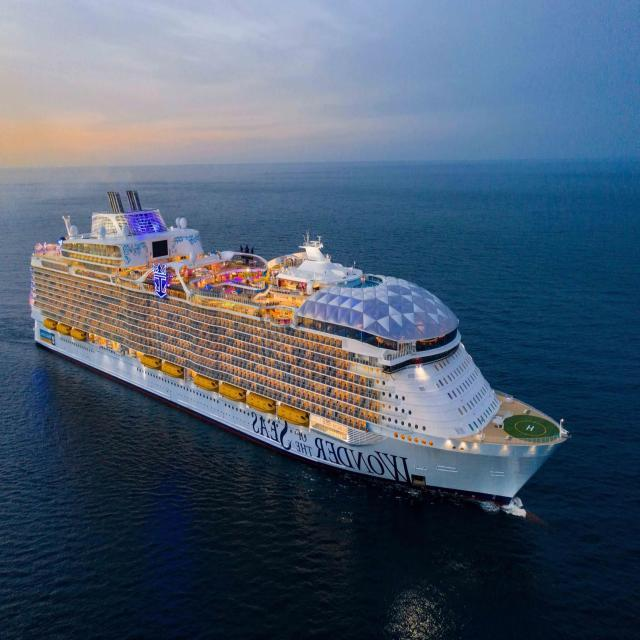Cruise: (29, 191, 567, 516)
